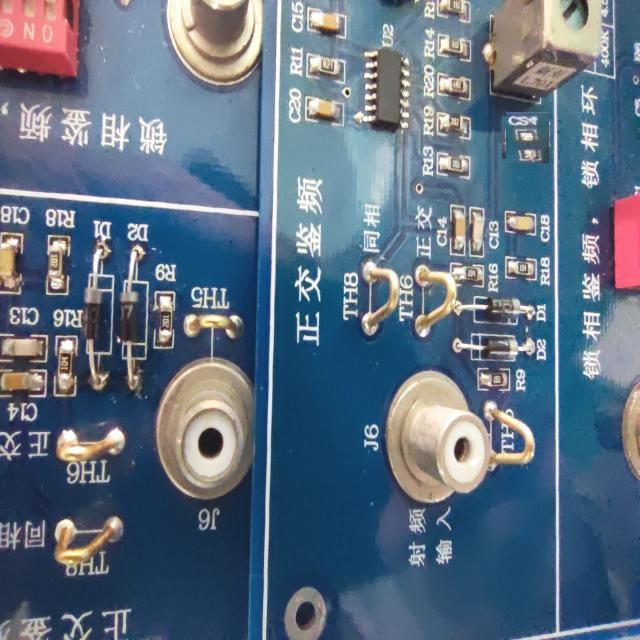miss_welding: (504, 114, 552, 161)
